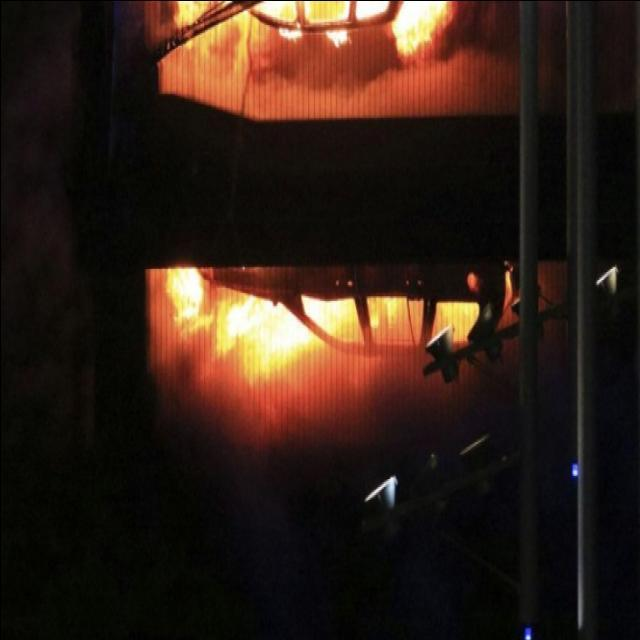Fire: (163, 263, 477, 388), (166, 0, 452, 86)
